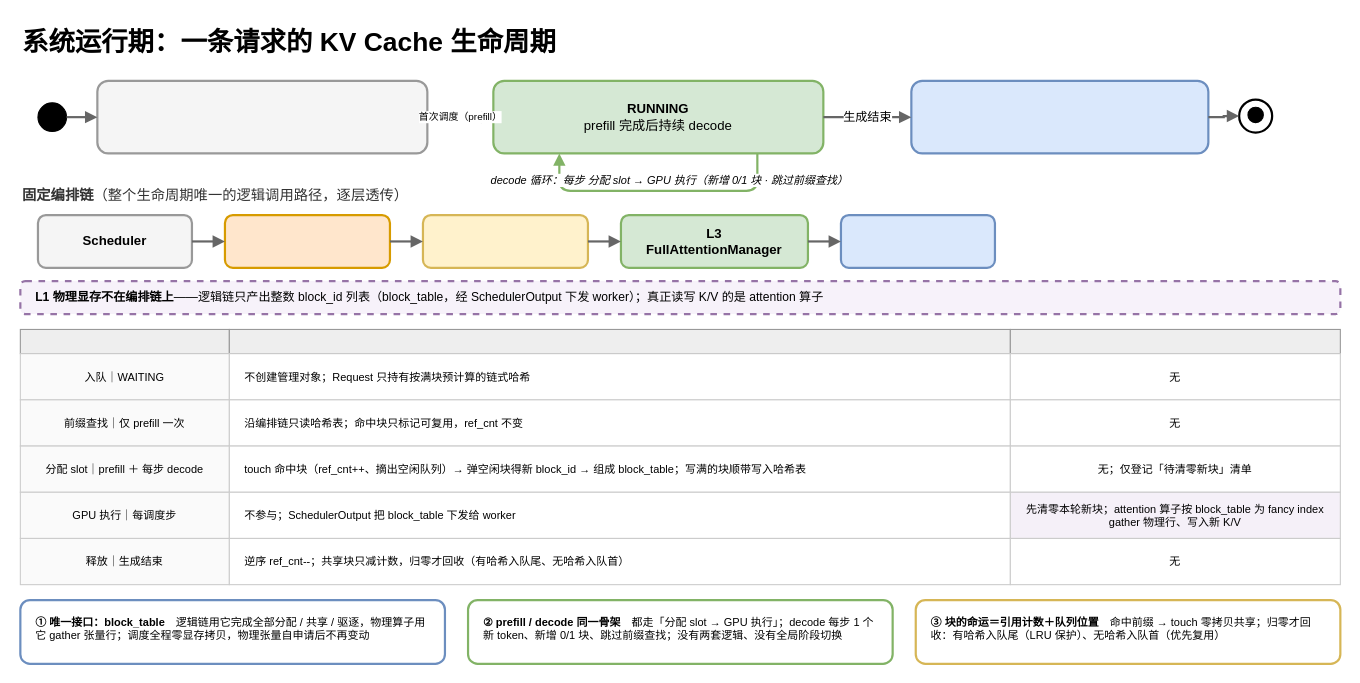
Image size: 1360x683. Some labels were removed from this diagram. Each missing label, with the centre of its shape:
L2 BlockPool: point (917, 240)
L4 Coordinator: point (504, 240)
L5 KVCacheManager: point (307, 240)
WAITING 等待首次调度 入队即切块、按满块预计算链式哈希: point (262, 116)
生成结束 → 释放 EOS / max_tokens：逆序归还、ref_cnt--: point (1059, 116)
第 1 层（物理）: point (1174, 341)
第 2～5 层（逻辑：全程零物理操作）: point (619, 341)
阶段 / 时机: point (124, 341)
